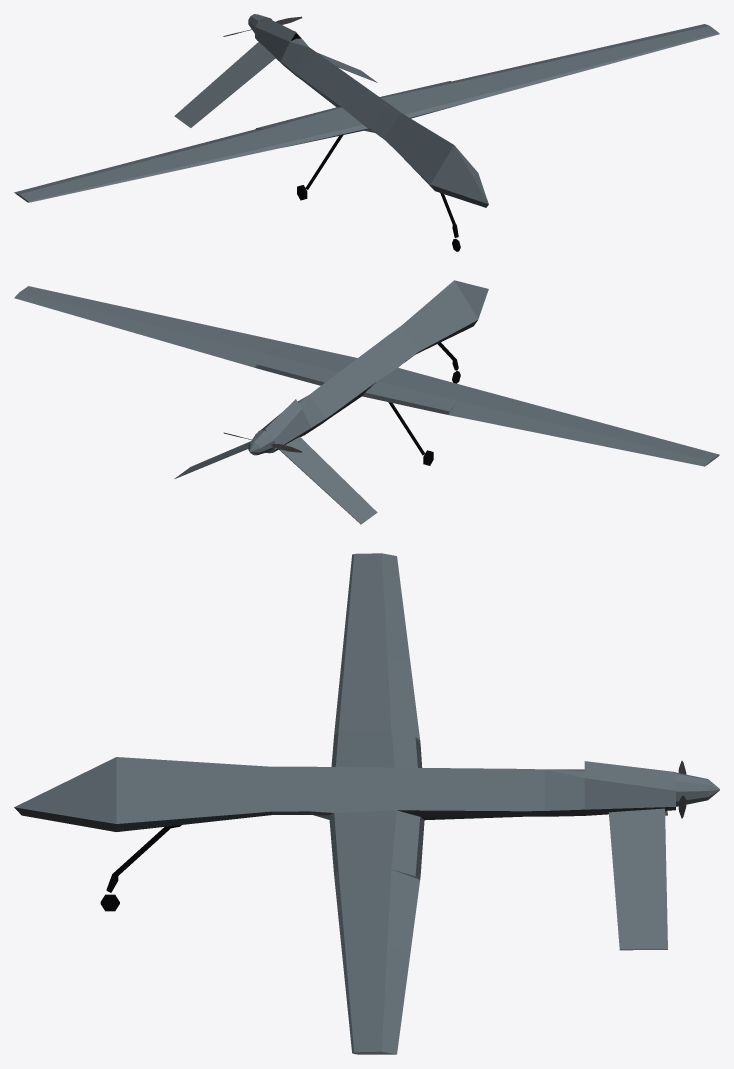
The picture shows the model from 3 angles, top to bottom: view 1: azimuth 30°, elevation 25°; view 2: azimuth 150°, elevation 25°; view 3: azimuth 270°, elevation 25°; orthographic projection. The views are drawn at different scales.
Visible parts, largest first — view 1: Circle.032, Circle.036, Circle.034, Circle.038; view 2: Circle.032, Circle.036, Circle.035, Circle.039, Circle.034, Circle.038, Circle.033, Circle.037; view 3: Circle.032, Circle.037, Circle.038, Circle.039, Circle.034, Circle.035, Circle.033, Landing gear_F.004.
Part boxes in pixels (bbox=[...]): Circle.032: bbox=[17, 17, 719, 207]; Circle.036: bbox=[174, 42, 275, 127]; Circle.034: bbox=[14, 155, 160, 194]; Circle.038: bbox=[556, 24, 709, 58]; Circle.032: bbox=[19, 280, 719, 463]; Circle.036: bbox=[278, 437, 377, 524]; Circle.035: bbox=[448, 401, 562, 436]; Circle.039: bbox=[154, 328, 264, 367]; Circle.034: bbox=[556, 426, 709, 466]; Circle.038: bbox=[14, 292, 161, 338]; Circle.033: bbox=[223, 430, 301, 455]; Circle.037: bbox=[174, 441, 250, 478]; Circle.032: bbox=[14, 553, 675, 1054]; Circle.037: bbox=[608, 808, 667, 950]; Circle.038: bbox=[382, 945, 410, 1054]; Circle.039: bbox=[387, 869, 419, 952]; Circle.034: bbox=[382, 553, 410, 663]; Circle.035: bbox=[387, 656, 419, 740]; Circle.033: bbox=[676, 761, 719, 818]; Landing gear_F.004: bbox=[100, 825, 181, 911].
Size of the model in its own units: 1428 by 207 by 855.
